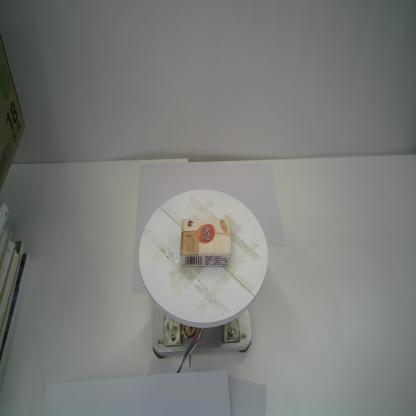Tissue: (180, 218, 233, 267)
